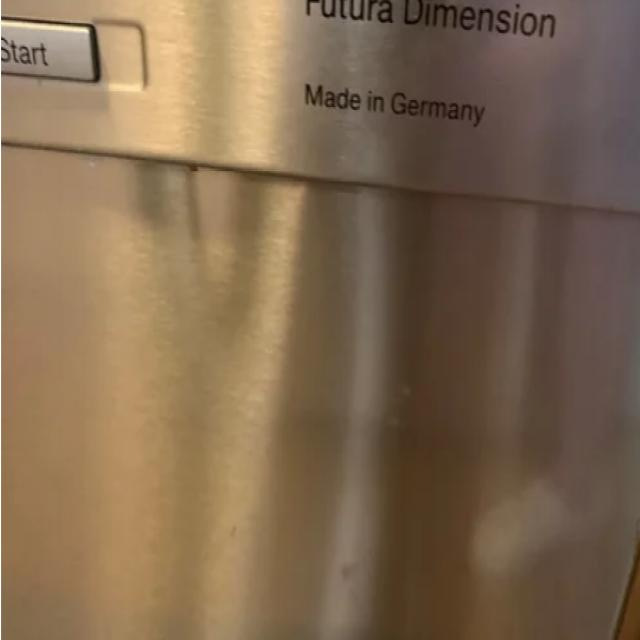dents: (437, 448, 633, 584)
